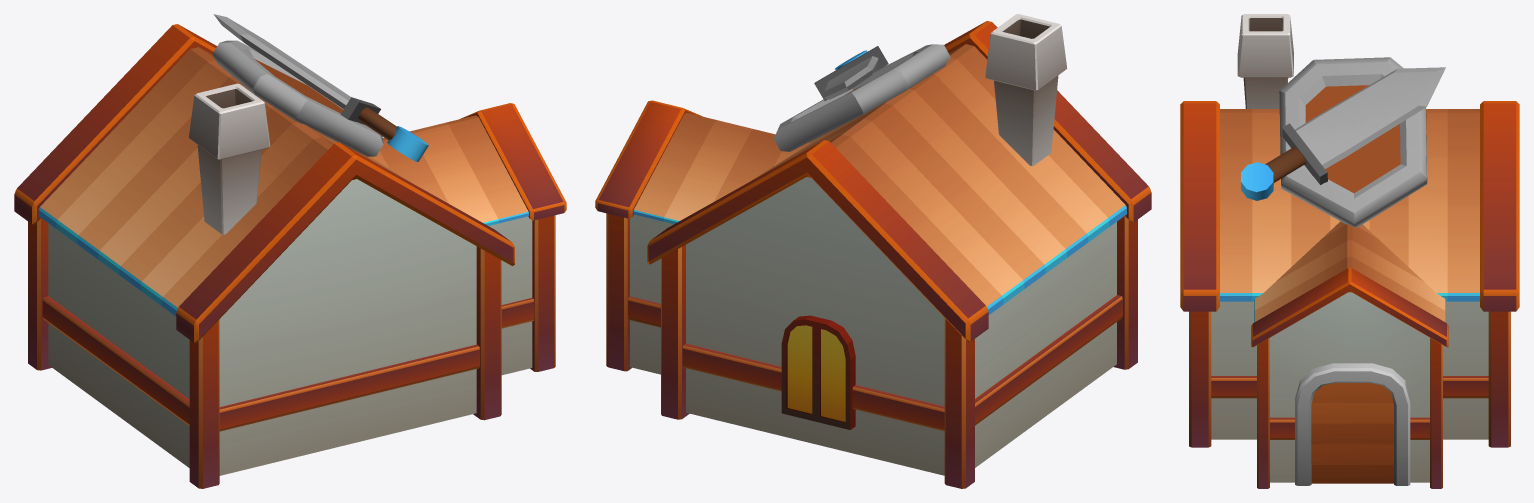
Rendered from Barrack_Sword_1.fbx.
3 views of the same model, side by side, from view 1: azimuth 30°, elevation 25°; view 2: azimuth 150°, elevation 25°; view 3: azimuth 270°, elevation 25° (orthographic). The views are drawn at different scales.
Parts seen in each view (by area): view 1: Barrack_Sword_Lv1; view 2: Barrack_Sword_Lv1; view 3: Barrack_Sword_Lv1.
Boxes of the visible parts, x1,y1,x2,y2 form: Barrack_Sword_Lv1: [14, 14, 566, 488]; Barrack_Sword_Lv1: [595, 14, 1151, 488]; Barrack_Sword_Lv1: [1180, 14, 1519, 488].
Bounding box in the file's own units: 1.04 × 0.8327 × 0.8016.
Materials: 1 (1 with a texture image).
